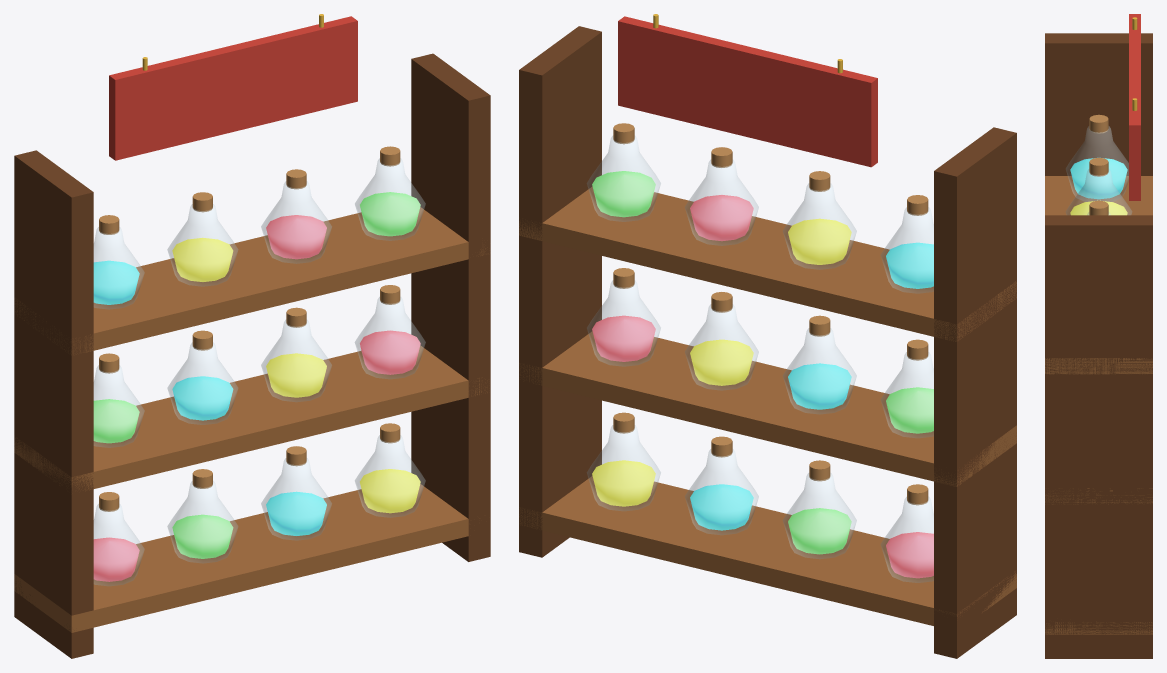
Rendered from PotionShelf.glb.
3 renders of one model, left to right at view 1: azimuth 30°, elevation 25°; view 2: azimuth 150°, elevation 25°; view 3: azimuth 270°, elevation 25°, orthographic. The views are drawn at different scales.
Parts seen in each view (by area): view 1: Body, Glass, Swing, PotionY, PotionR, PotionG, PotionB; view 2: Body, Glass, Swing, PotionY, PotionG, PotionR, PotionB; view 3: Body, Glass, Swing, PotionB, PotionY.
Part boxes in pixels (<box>): Body: <box>14,14,490,658</box>; Glass: <box>94,158,425,585</box>; Swing: <box>109,16,357,160</box>; PotionY: <box>172,238,420,513</box>; PotionR: <box>93,215,420,581</box>; PotionG: <box>93,192,420,558</box>; PotionB: <box>93,260,326,535</box>; Body: <box>519,14,1016,658</box>; Glass: <box>587,136,933,582</box>; Swing: <box>618,16,877,167</box>; PotionY: <box>592,218,851,506</box>; PotionG: <box>592,171,933,554</box>; PotionR: <box>592,195,933,578</box>; PotionB: <box>690,242,933,530</box>; Body: <box>1045,17,1152,658</box>; Glass: <box>1066,126,1131,215</box>; Swing: <box>1129,14,1140,200</box>; PotionB: <box>1070,158,1127,198</box>; PotionY: <box>1070,200,1127,215</box>.
Bounding box in the file's own units: 3.8 × 4.65 × 0.9.
7 materials, 2 textured.
